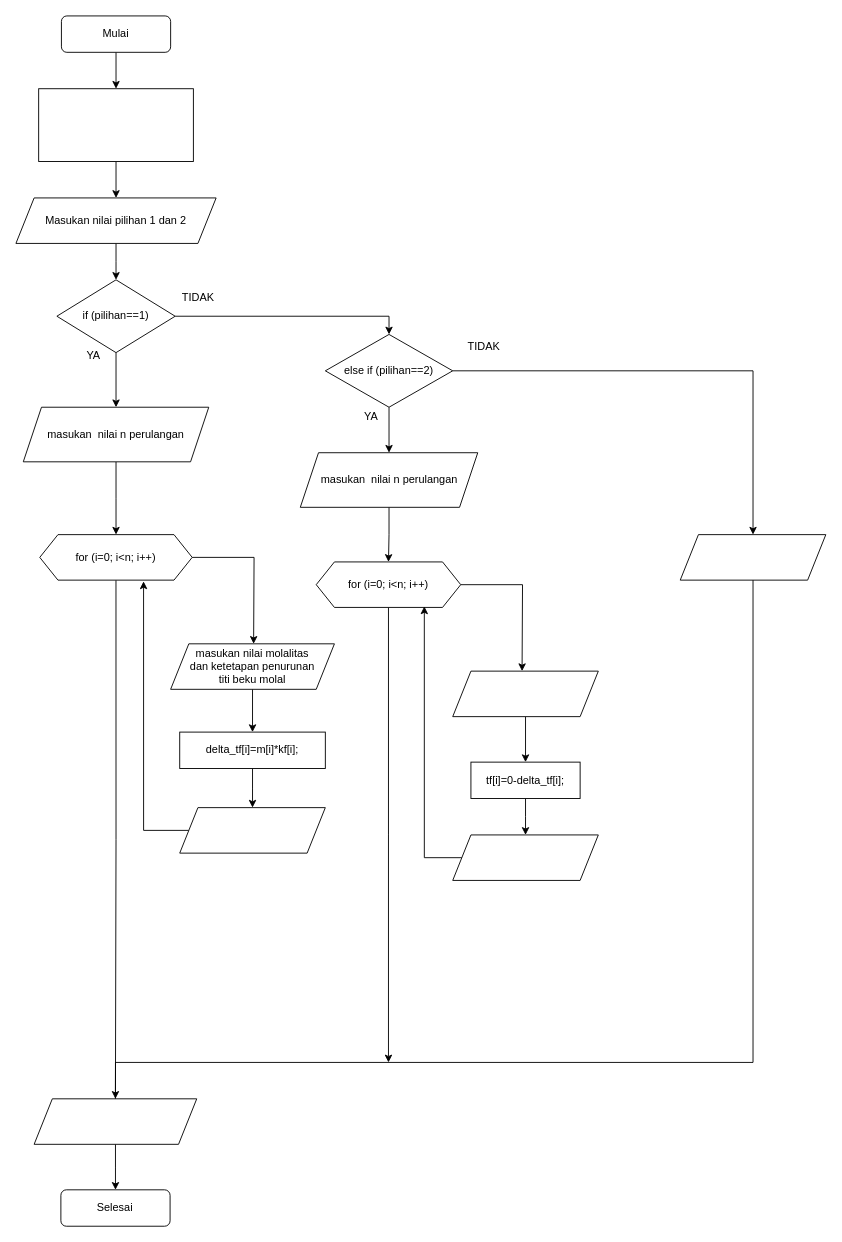
This 842x1242 diagram has some shape labels left out. The centre of each missing label's shape, as x and y in pixels:
"hasil delta" belongs at point (252, 830).
"hasil titik beku" belongs at point (525, 857).
"int n,i,pilihan; float m [n]; float kf [n]; float delta_tf [n]; float tf [n];" belongs at point (115, 125).
"masukan nilai delta tf" belongs at point (525, 693).
"pilihan tidak tersedia" belongs at point (752, 557).
"return 0" belongs at point (115, 1121).
